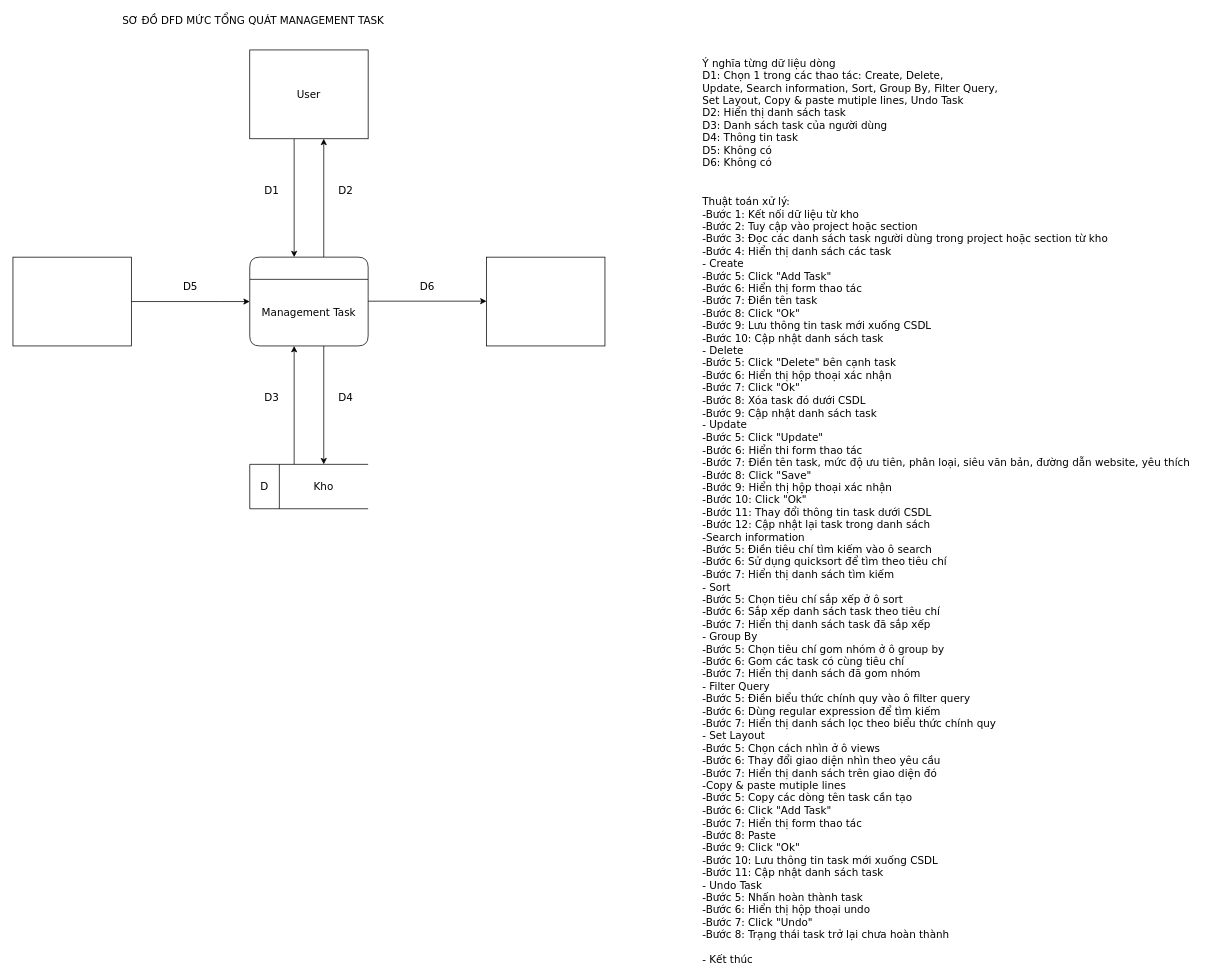
This 1225x978 diagram has some shape labels left out. Each missing label, with the centre of its shape:
"Thiết bị nhập" belongs at [71,301].
"Thiết bị xuất" belongs at [545,301].
